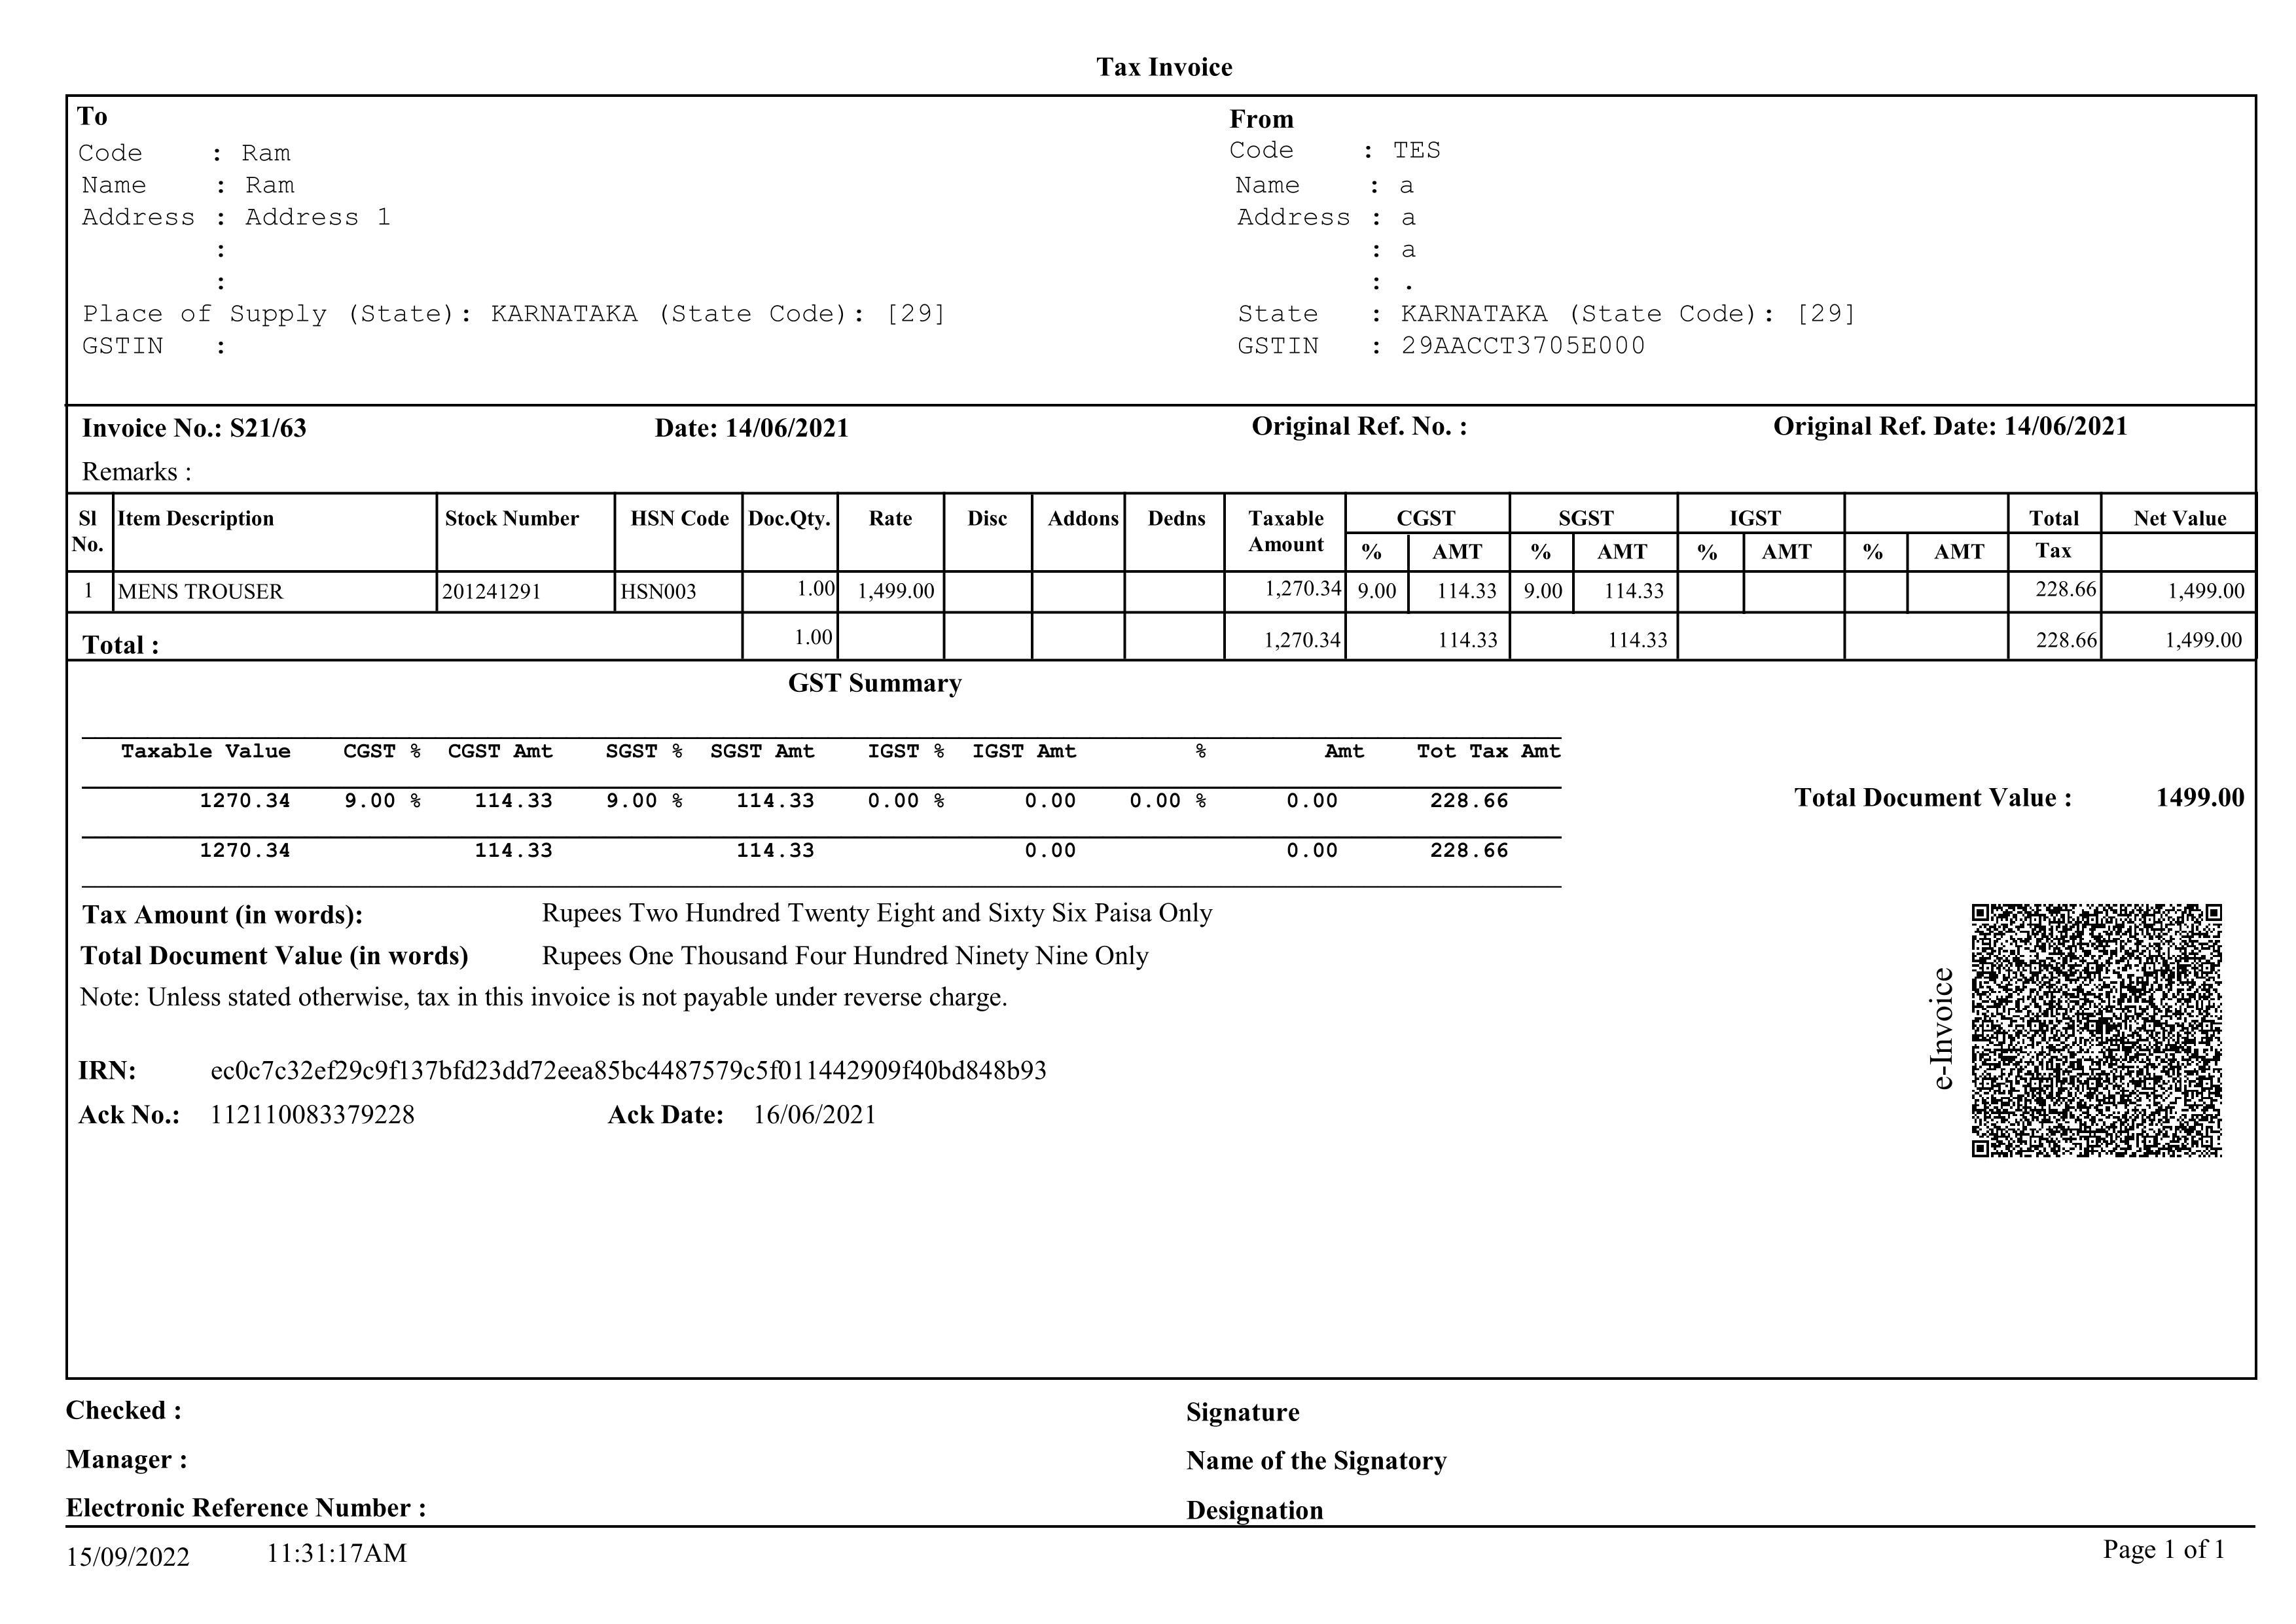InvoiceDate: (724, 411, 857, 443)
InvoiceNumber: (227, 415, 320, 443)
TotalAmount: (2152, 780, 2247, 814)
